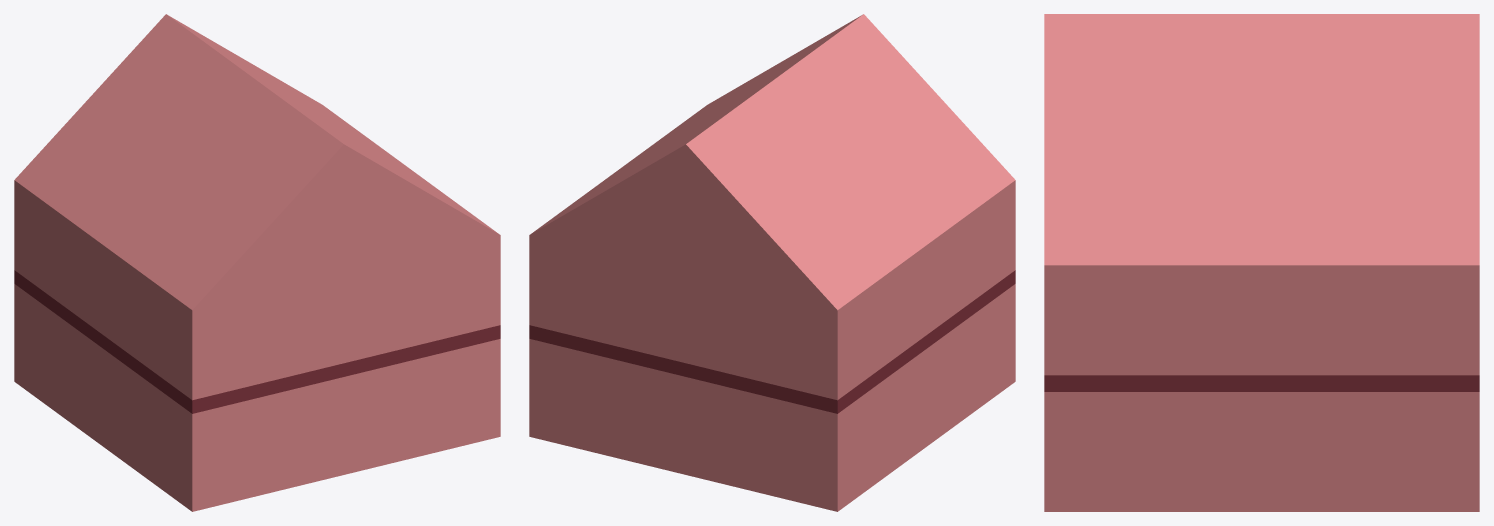
File: Building-Residential-House.fbx
3 views of the same model, side by side, from view 1: azimuth 30°, elevation 25°; view 2: azimuth 150°, elevation 25°; view 3: azimuth 270°, elevation 25° (orthographic). The views are drawn at different scales.
Visible parts, largest first — view 1: Cube; view 2: Cube; view 3: Cube.
Boxes of the visible parts, box(x1,y1,x2,y2) form: Cube: box(14, 14, 500, 511); Cube: box(529, 14, 1015, 511); Cube: box(1044, 14, 1479, 511).
Bounding box in the file's own units: 1000 × 1025 × 1000.
